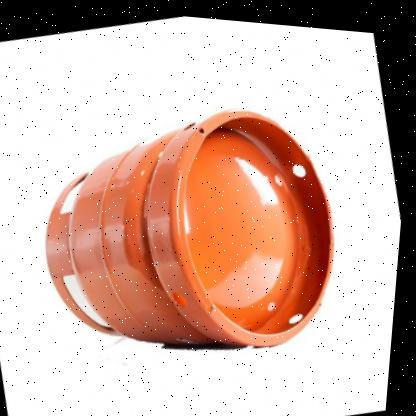gas-tank: (0, 54, 401, 415)
